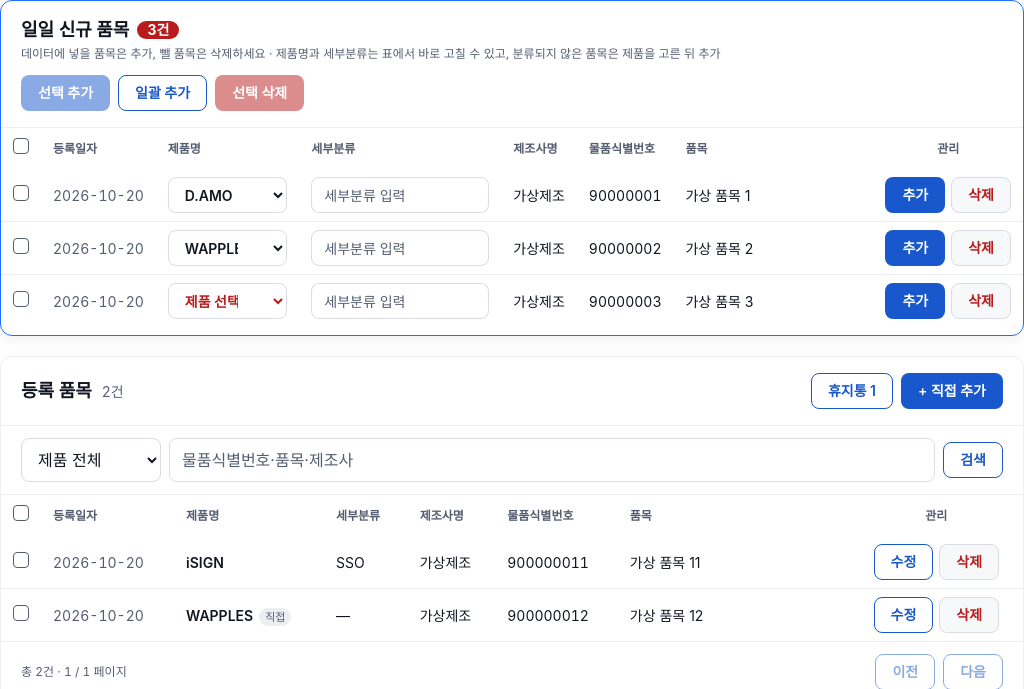
Test: 등록 품목 카드 › 휴지통: 삭제자·삭제 시각(KST) 표시, 되살리기
The image size is (1024, 689).
Click the button "휴지통 1" at (852, 391), box [811,373,893,409]
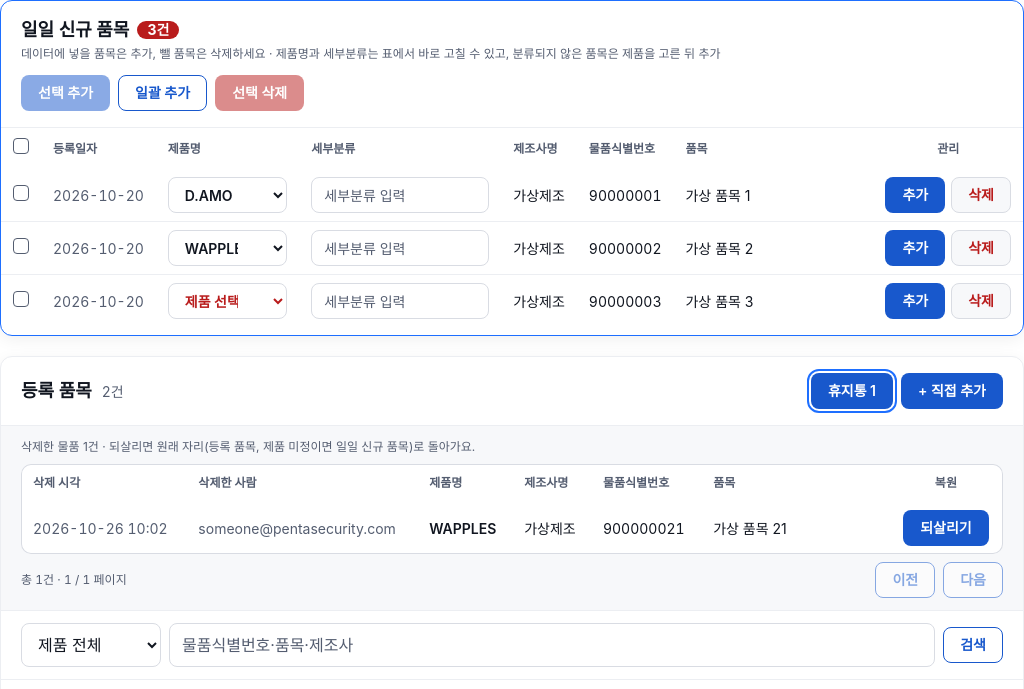
Now the element named "휴지통" shows "someone@pentasecurity.com", box [198,520,396,536]
Now the element named "휴지통" shows "2026-10-26 10:02", box [33,520,168,536]
Click the button "되살리기" at (946, 528), box [903,510,989,546]
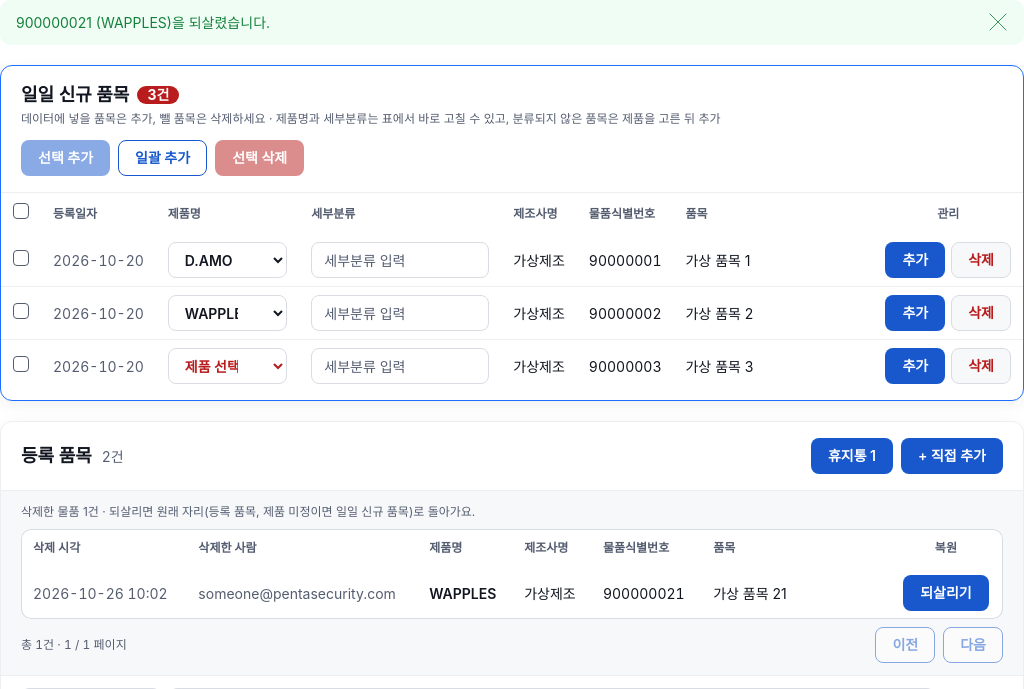
Now the message shows "되살렸습니다", box [16,14,270,31]
